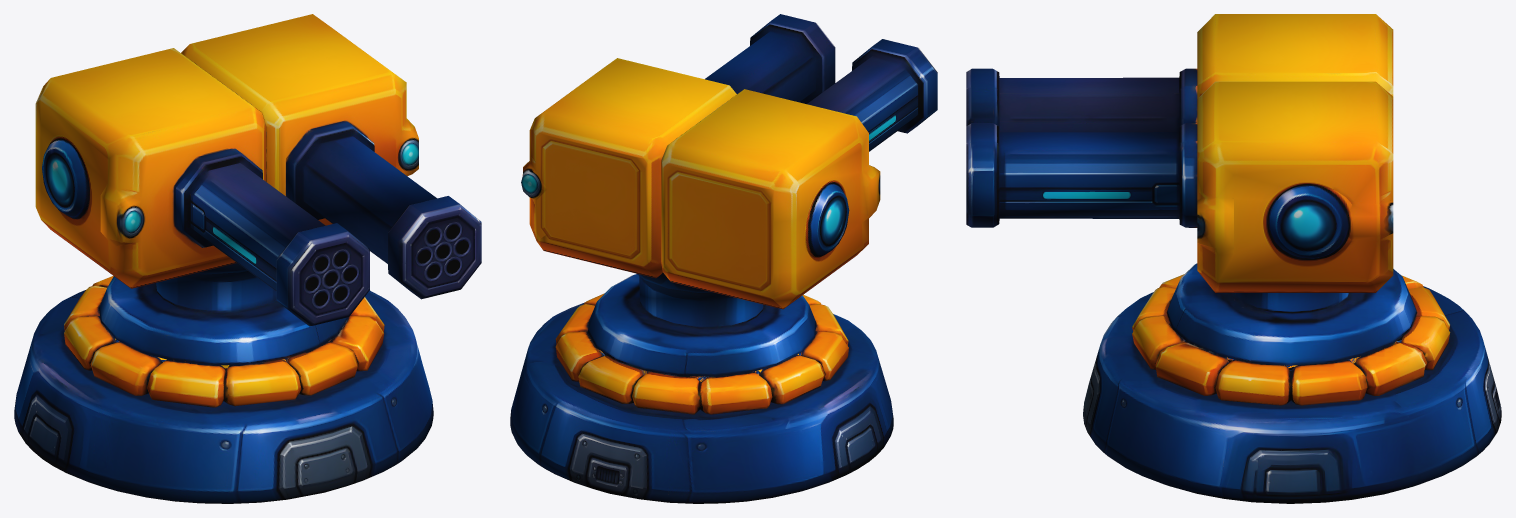
3 renders of one model, left to right at view 1: azimuth 30°, elevation 25°; view 2: azimuth 150°, elevation 25°; view 3: azimuth 270°, elevation 25°, orthographic. The views are drawn at different scales.
Parts seen in each view (by area): view 1: TurretHead, TurretBase; view 2: TurretHead, TurretBase; view 3: TurretHead, TurretBase.
Part boxes in pixels (x1,y1,x2,y2): TurretHead: (35,14,481,326); TurretBase: (14,276,433,503); TurretHead: (521,14,937,309); TurretBase: (510,274,893,503); TurretHead: (966,14,1393,294); TurretBase: (1083,263,1501,503).
Bounding box in the file's own units: 171 × 219 × 154.
Materials: 1 (1 with a texture image).
